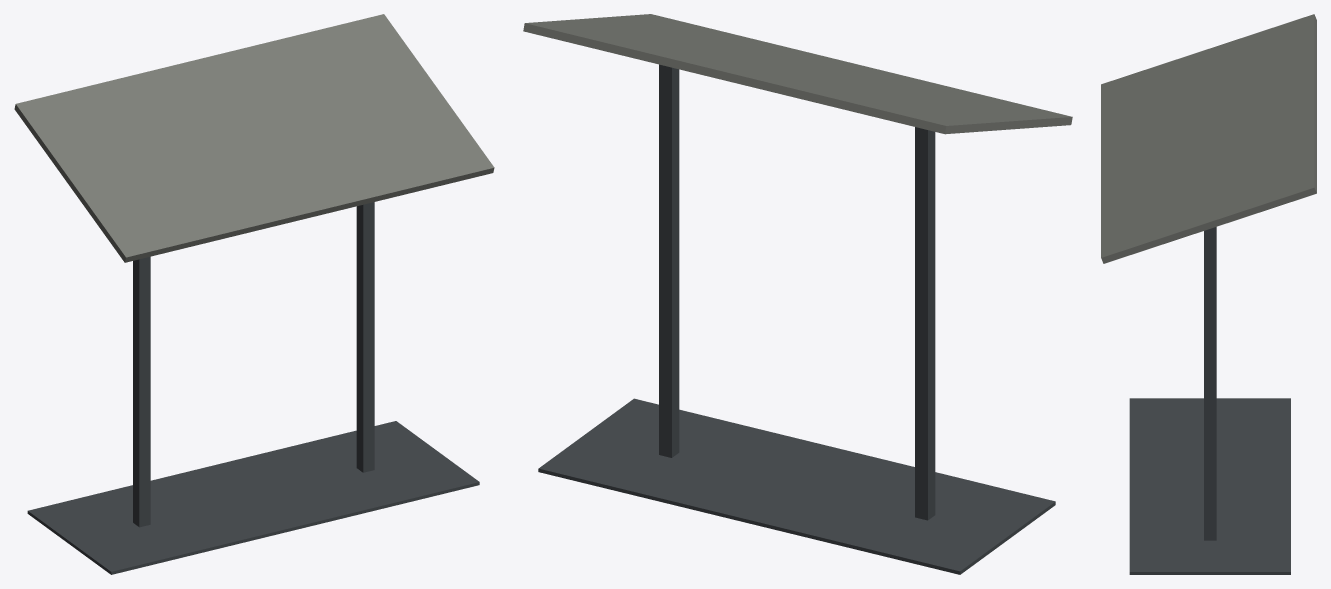
Rendered from infodeskbig.glb.
3 views of the same model, side by side, from view 1: azimuth 30°, elevation 25°; view 2: azimuth 150°, elevation 25°; view 3: azimuth 270°, elevation 25° (orthographic). The views are drawn at different scales.
Parts seen in each view (by area): view 1: InfoDeskBig; view 2: InfoDeskBig; view 3: InfoDeskBig.
Part boxes in pixels (bbox=[...]): InfoDeskBig: bbox=[14, 14, 494, 574]; InfoDeskBig: bbox=[523, 14, 1072, 574]; InfoDeskBig: bbox=[1101, 14, 1316, 574].
Bounding box in the file's own units: 0.7694 × 0.8004 × 0.404.
1 material, 1 textured.
